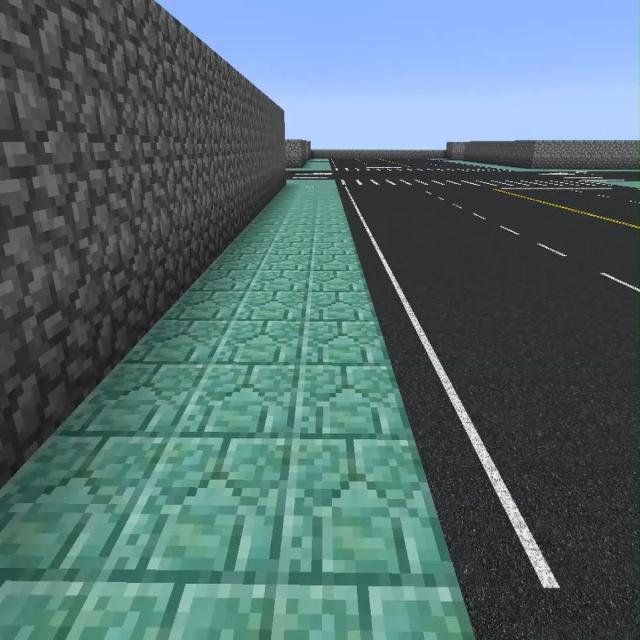8: (339, 179, 617, 186), (332, 167, 512, 172), (538, 173, 622, 181), (286, 170, 333, 178)
crosswalk: (340, 188, 639, 639), (329, 157, 466, 166), (334, 174, 546, 178), (597, 172, 639, 180)
road: (0, 180, 477, 639), (431, 158, 639, 172), (286, 158, 331, 169), (600, 181, 639, 188)
